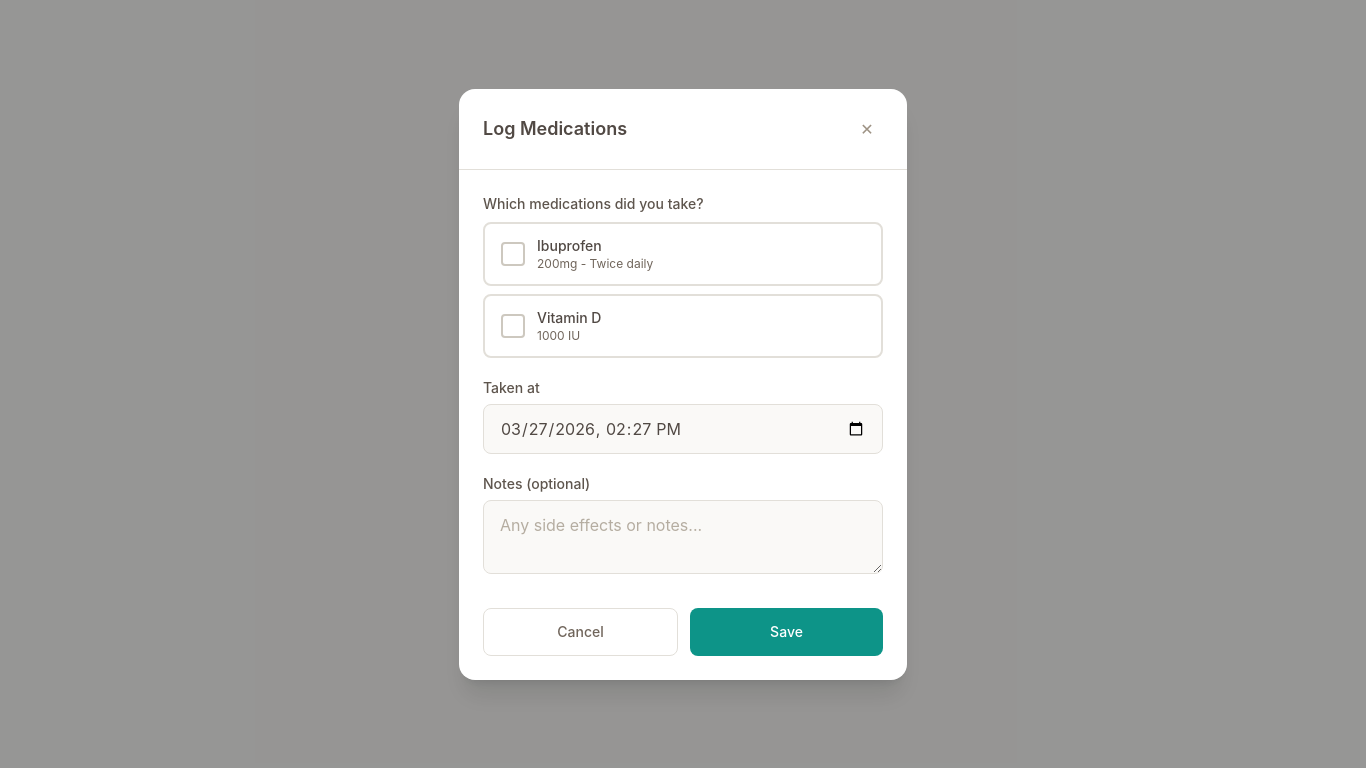
it: MedicationLogModal › shows error when submitting without selecting any medication
expect the text "Ibuprofen" is shown: met, box top-left (537, 236), bottom-right (602, 254)
Click the button "Save" at (786, 632), box top-left (690, 608), bottom-right (883, 656)
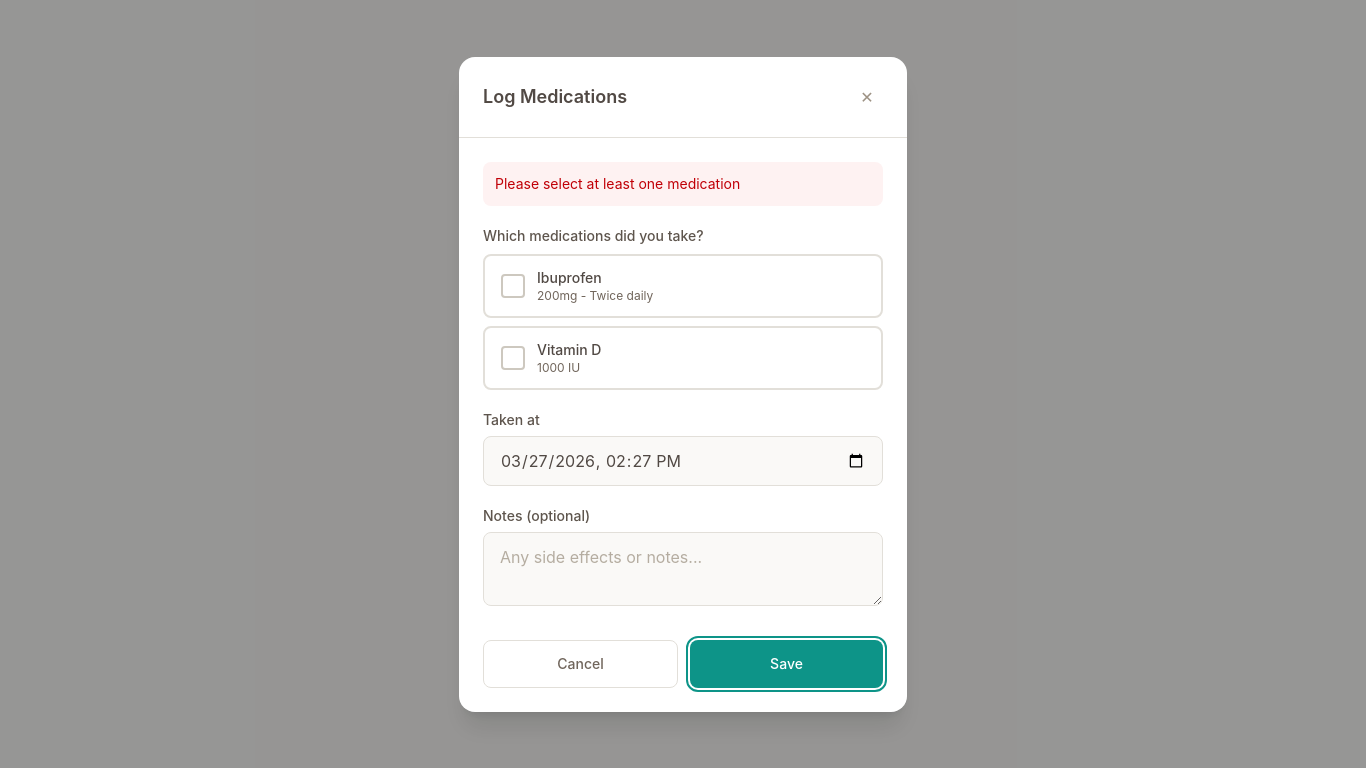
expect the text "Please select at least one medication" is shown: met, box top-left (483, 162), bottom-right (883, 206)
